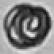correct: (2, 5, 51, 48)
